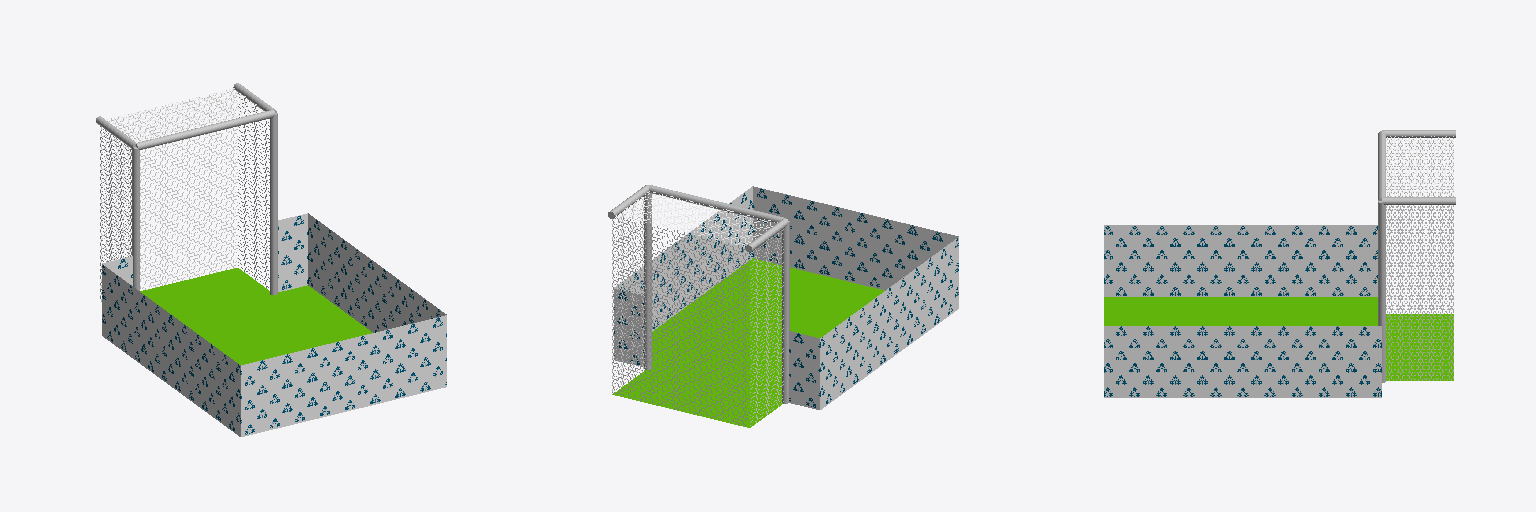
3 renders of one model, left to right at view 1: azimuth 30°, elevation 25°; view 2: azimuth 150°, elevation 25°; view 3: azimuth 270°, elevation 25°, orthographic.
Parts seen in each view (by area): view 1: Cube.003_Cube.001; view 2: Cube.003_Cube.001; view 3: Cube.003_Cube.001.
Boxes of the visible parts, x1=… form: Cube.003_Cube.001: x1=96, y1=83, x2=446, y2=436; Cube.003_Cube.001: x1=608, y1=185, x2=958, y2=427; Cube.003_Cube.001: x1=1104, y1=130, x2=1455, y2=397.
Size of the model in its own units: 3 by 2.55 by 4.43.
Materials: 4 (2 with a texture image).